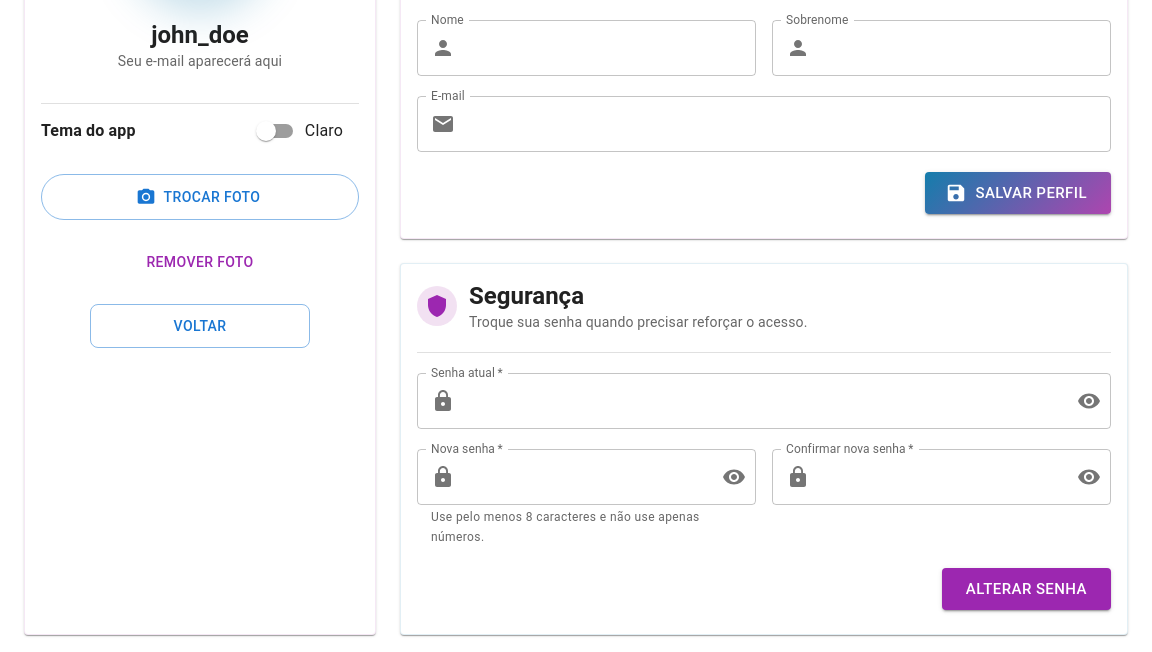
Test: Settings Page › should display password validation error if passwords do not match
(page scrolled)
Type "oldpass" into the password field labelled "Senha atual *".
click(762, 401); type("oldpass")  # box left=463, top=373, right=1061, bottom=429
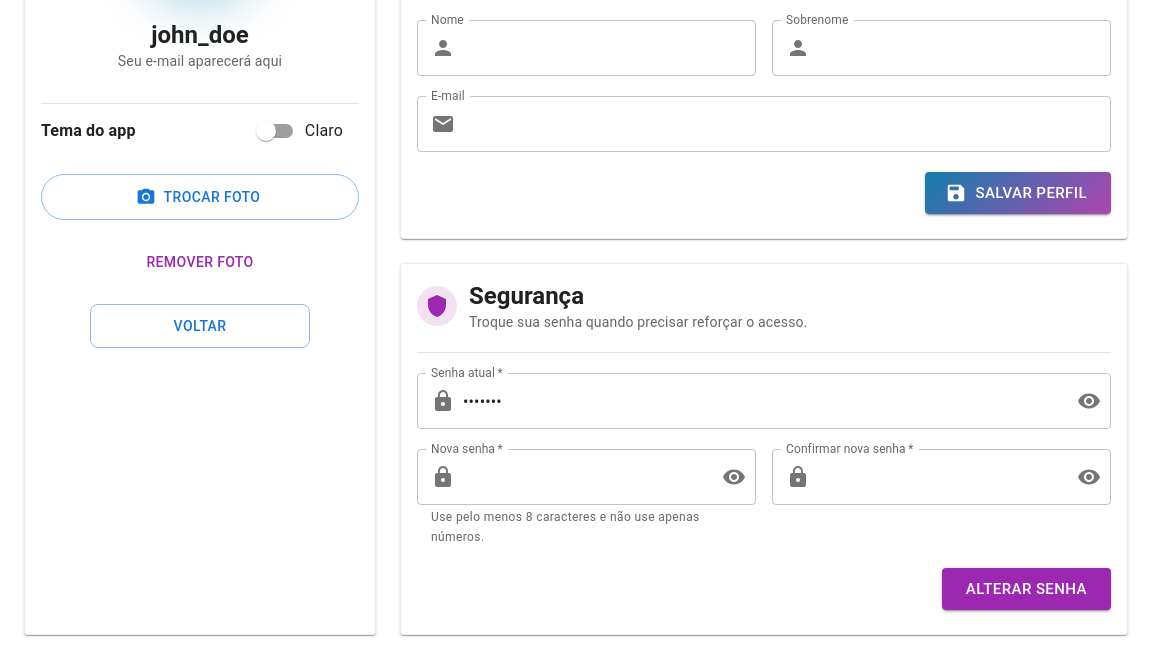
Type "pass12345" into the password field labelled "Nova senha *".
click(584, 477); type("pass12345")  # box left=463, top=449, right=706, bottom=505
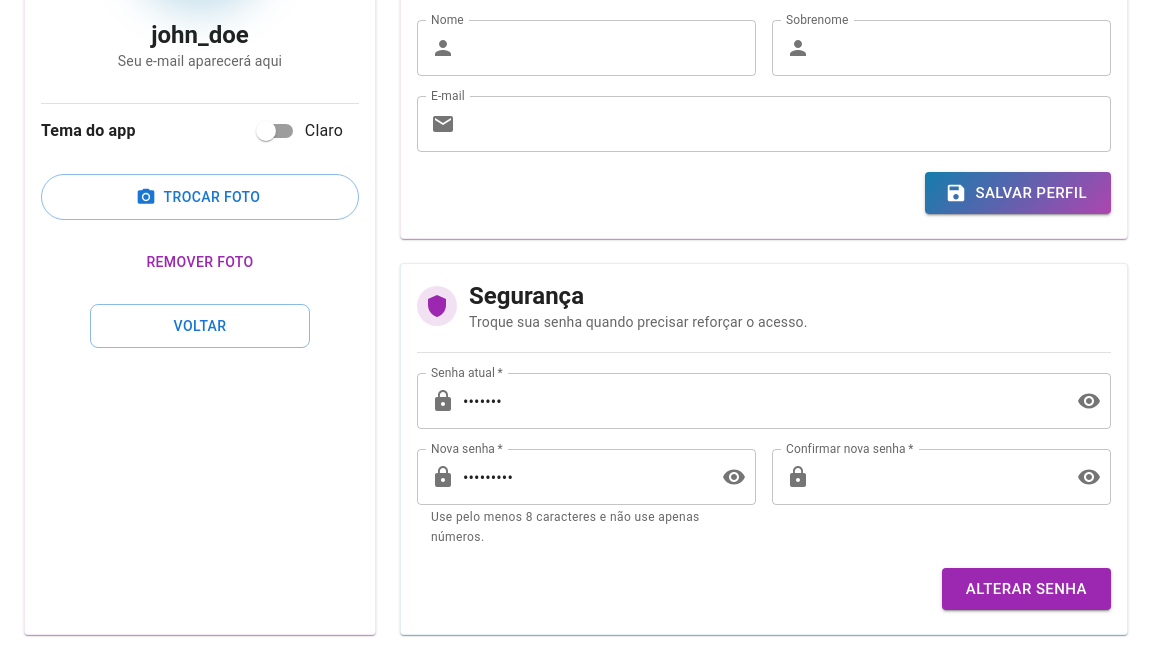
Type "differentpass" into the password field labelled "Confirmar nova senha *".
click(940, 477); type("differentpass")  # box left=818, top=449, right=1061, bottom=505
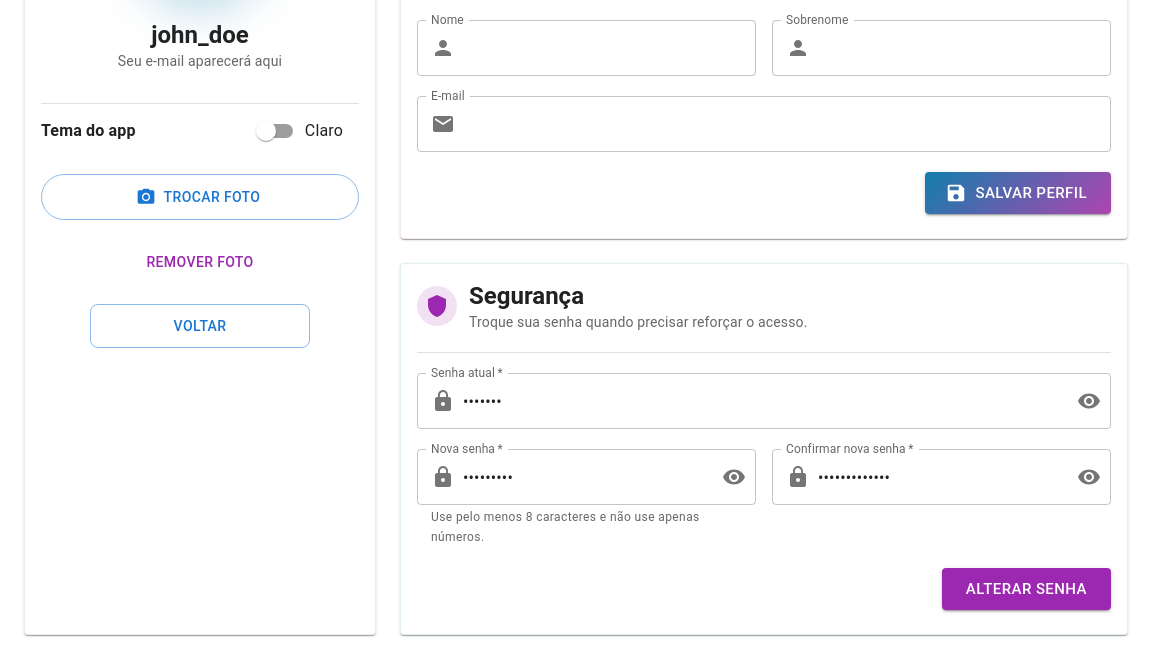
Click the button "Alterar senha".
click(1026, 589)  # box left=942, top=568, right=1111, bottom=610
(page scrolled)
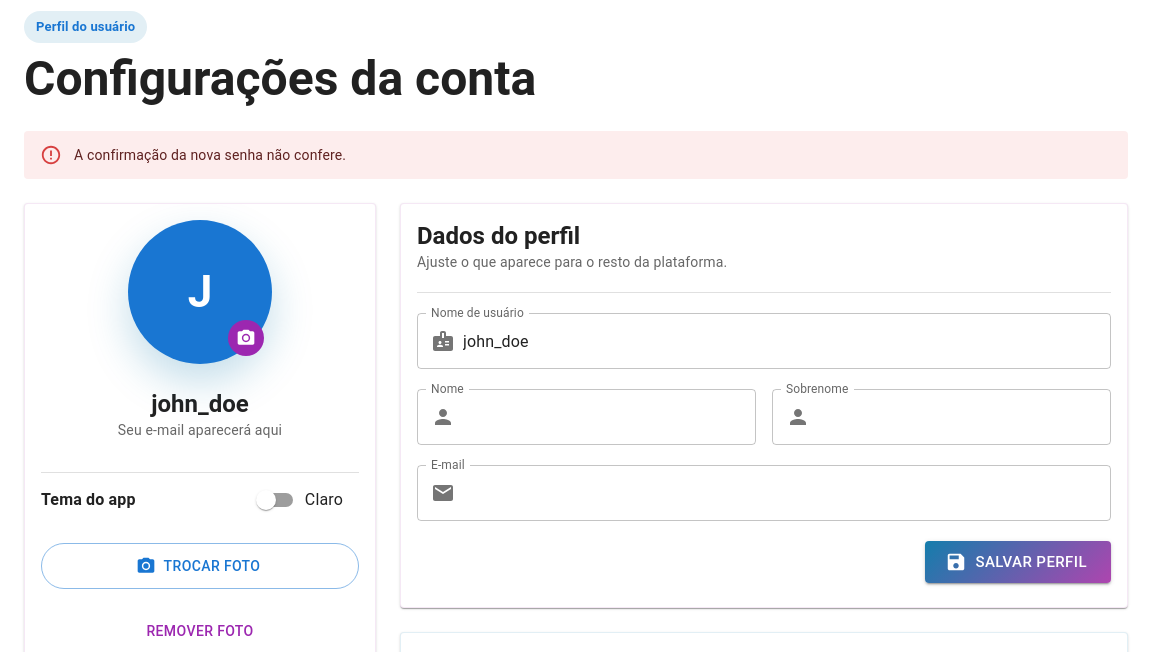
Result: the text "A confirmação da nova senha não confere." is shown at left=74, top=147, right=346, bottom=163
